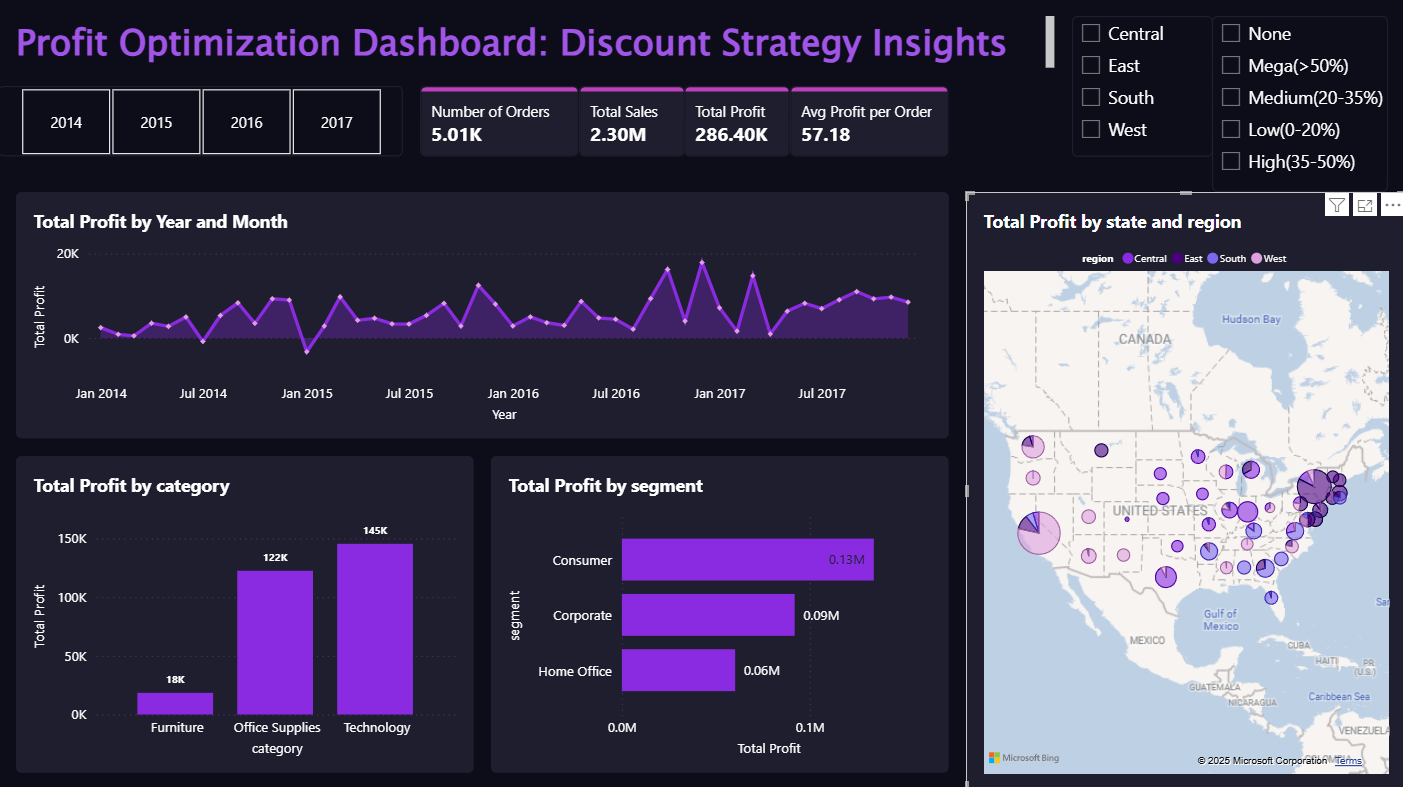

The dashboard page shown, as its layout file describes it:
{"tool":"powerbi","page":{"name":"Page 1","canvas":[1280,720],"ordinal":0},"visuals":[{"type":"cardVisual","fields":{"Data":["order_details.Total Sales"]},"box":[528,80,96,64],"z":0},{"type":"cardVisual","fields":{"Data":["discount_range_cte.Number of Orders Filtered"]},"box":[384,80,144,64],"z":1000},{"type":"cardVisual","fields":{"Data":["order_details.Avg Profit per Order"]},"box":[720,80,144,64],"z":2000},{"type":"cardVisual","fields":{"Data":["order_details.Total Profit"]},"box":[624,80,96,64],"z":3000},{"type":"slicer","fields":{"Values":["Date.Year"]},"box":[0,80,368,64],"z":4000},{"type":"slicer","fields":{"Values":["customers.region"]},"box":[976,16,128,128],"z":5000},{"type":"slicer","fields":{"Values":["discount_range_cte.discount_range"]},"box":[1104,16,160,160],"z":6000},{"type":"clusteredColumnChart","fields":{"Category":["products.category","products.sub_category"],"Y":["order_details.Total Profit"]},"box":[16,416,416,288],"z":7000},{"type":"map","fields":{"Category":["customers.state"],"Size":["order_details.Total Profit"],"Series":["customers.region"]},"box":[880,176,400,544],"z":8000},{"type":"clusteredBarChart","fields":{"Category":["customers.segment"],"Y":["order_details.Total Profit"]},"box":[448,416,416,288],"z":9000},{"type":"lineChart","fields":{"Y":["order_details.Total Profit"],"Category":["Date.YearMonthDate.Variation.Date Hierarchy.Year","Date.YearMonthDate.Variation.Date Hierarchy.Month"]},"box":[16,176,848,224],"z":10000},{"type":"textbox","box":[16,16,944,48],"z":11000}]}

Visuals, with their boxes in screenshot pixels (x1, y1, x2, y2), scaled from the page's 1280x720 canvas onto the 1403x787 screenshot:
cardVisual - order_details.Total Sales: detection(579, 87, 684, 157)
cardVisual - discount_range_cte.Number of Orders Filtered: detection(421, 87, 579, 157)
cardVisual - order_details.Avg Profit per Order: detection(789, 87, 947, 157)
cardVisual - order_details.Total Profit: detection(684, 87, 789, 157)
slicer - Date.Year: detection(0, 87, 403, 157)
slicer - customers.region: detection(1070, 17, 1210, 157)
slicer - discount_range_cte.discount_range: detection(1210, 17, 1385, 192)
clusteredColumnChart - products.category x products.sub_category: detection(18, 455, 474, 770)
map - customers.state x order_details.Total Profit: detection(965, 192, 1402, 786)
clusteredBarChart - customers.segment x order_details.Total Profit: detection(491, 455, 947, 770)
lineChart - order_details.Total Profit x Date.YearMonthDate.Variation.Date Hierarchy.Year: detection(18, 192, 947, 437)
textbox: detection(18, 17, 1052, 70)
